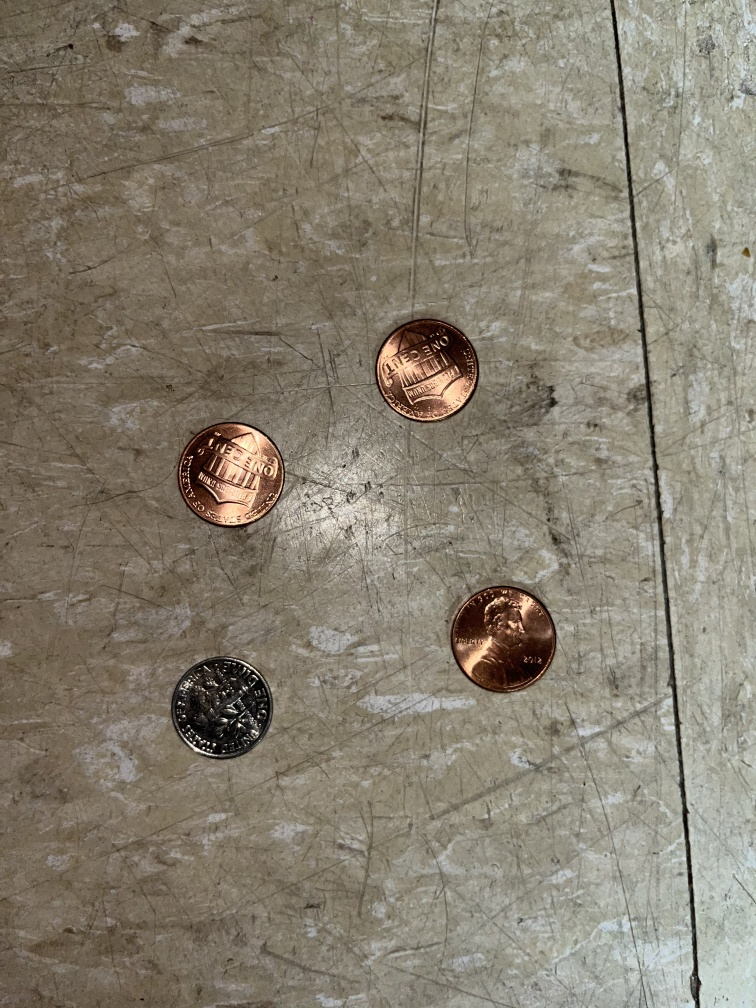dime: (166, 644, 280, 771)
penny: (438, 579, 563, 703), (365, 315, 484, 435), (171, 419, 294, 532)
